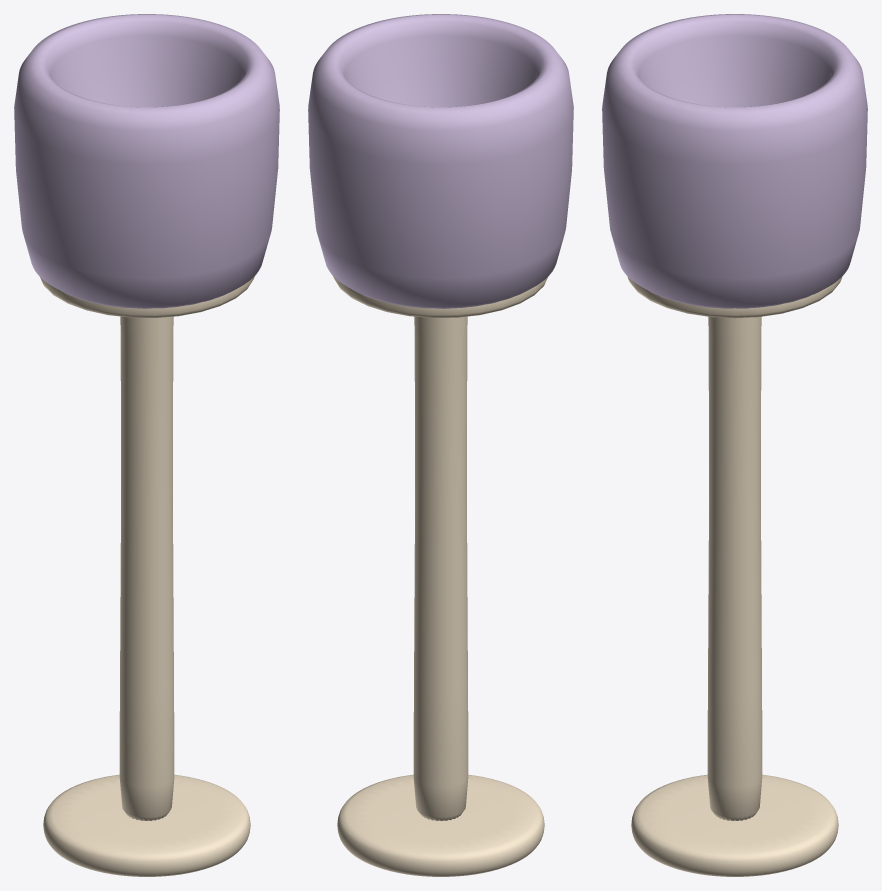
File: floor_lamp_c.glb
3 views of the same model, side by side, from view 1: azimuth 30°, elevation 25°; view 2: azimuth 150°, elevation 25°; view 3: azimuth 270°, elevation 25° (orthographic).
Visible parts, largest first — view 1: body; view 2: body; view 3: body.
Part boxes in pixels (<box>): body: <box>14,14,279,876</box>; body: <box>308,14,573,876</box>; body: <box>602,14,867,876</box>.
Size of the model in its own units: 0.4614 by 1.49 by 0.4614.
